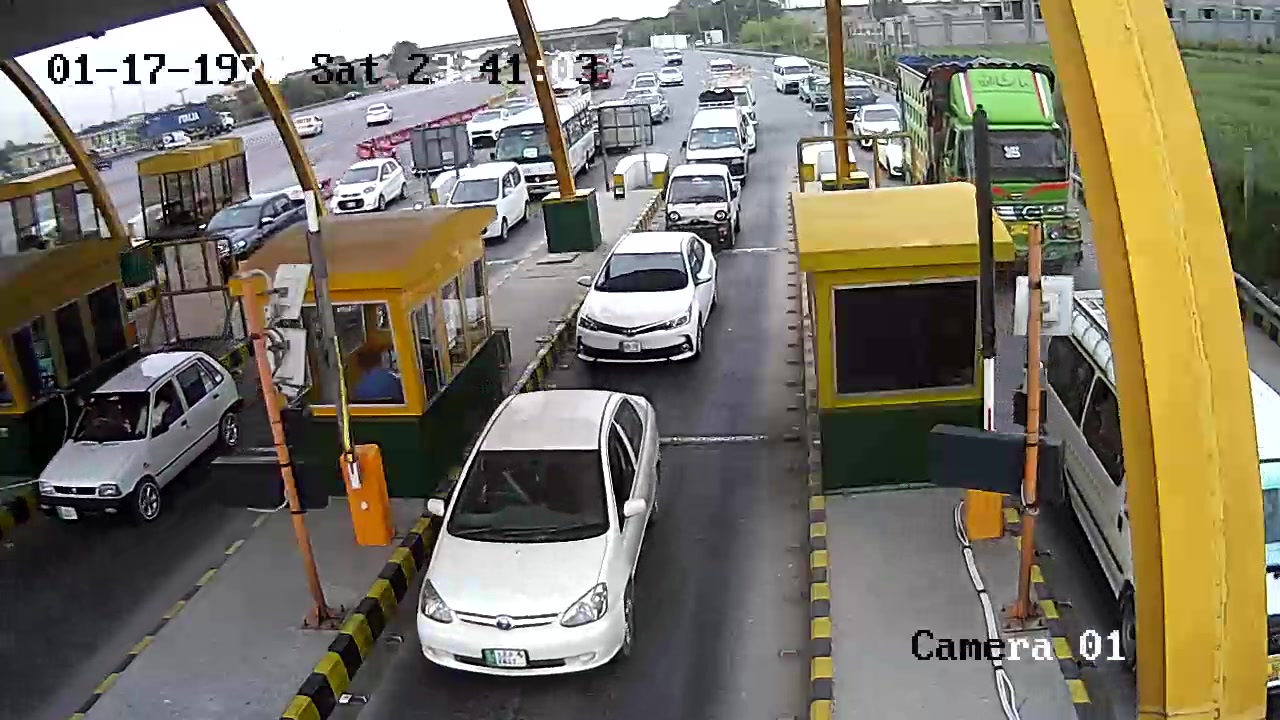F1: (394, 384, 696, 689), (560, 225, 739, 373)
